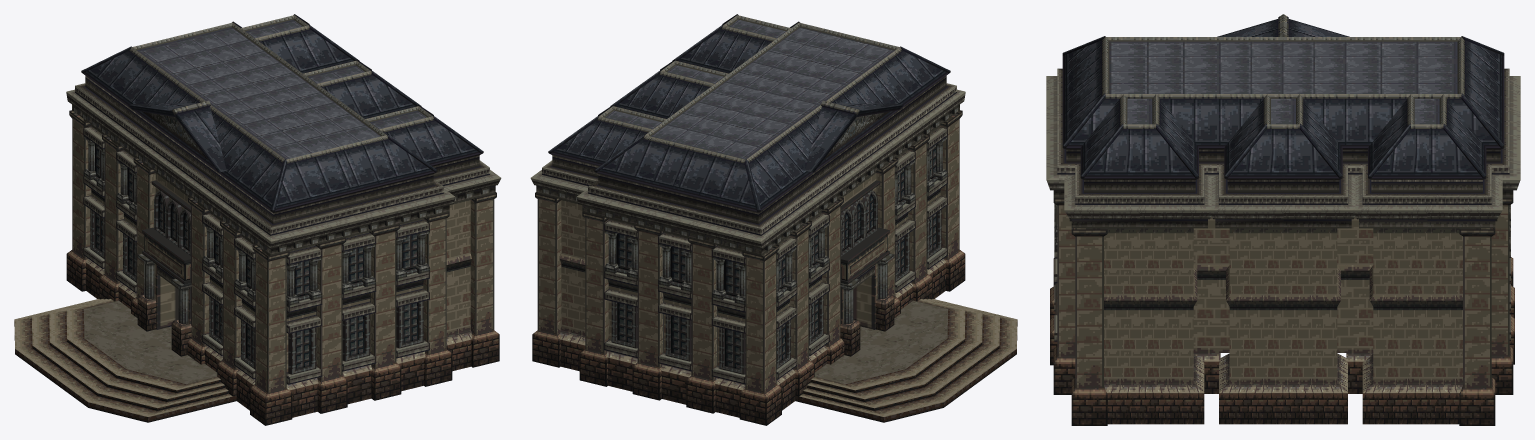
The model's file is EnvBdgMD_DepartmentStore_A_Outdoor.FBX.
The picture shows the model from 3 angles, left to right: view 1: azimuth 30°, elevation 25°; view 2: azimuth 150°, elevation 25°; view 3: azimuth 270°, elevation 25°; orthographic projection. The views are drawn at different scales.
Parts seen in each view (by area): view 1: EnvBdgMD_DepartmentStore_A_Outdoor; view 2: EnvBdgMD_DepartmentStore_A_Outdoor; view 3: EnvBdgMD_DepartmentStore_A_Outdoor.
Part boxes in pixels (box(x1,y1,x2,y2)): EnvBdgMD_DepartmentStore_A_Outdoor: box(14, 14, 501, 425); EnvBdgMD_DepartmentStore_A_Outdoor: box(530, 14, 1017, 425); EnvBdgMD_DepartmentStore_A_Outdoor: box(1046, 14, 1520, 425).
Bounding box in the file's own units: 1325 × 860 × 1320.
